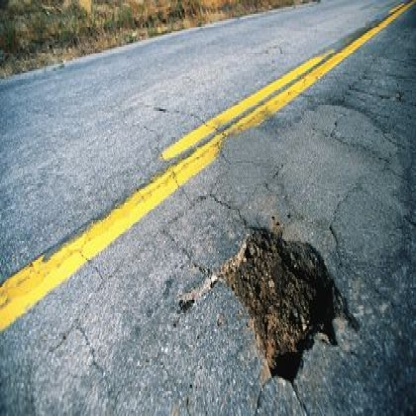pothole: (189, 209, 370, 397)
